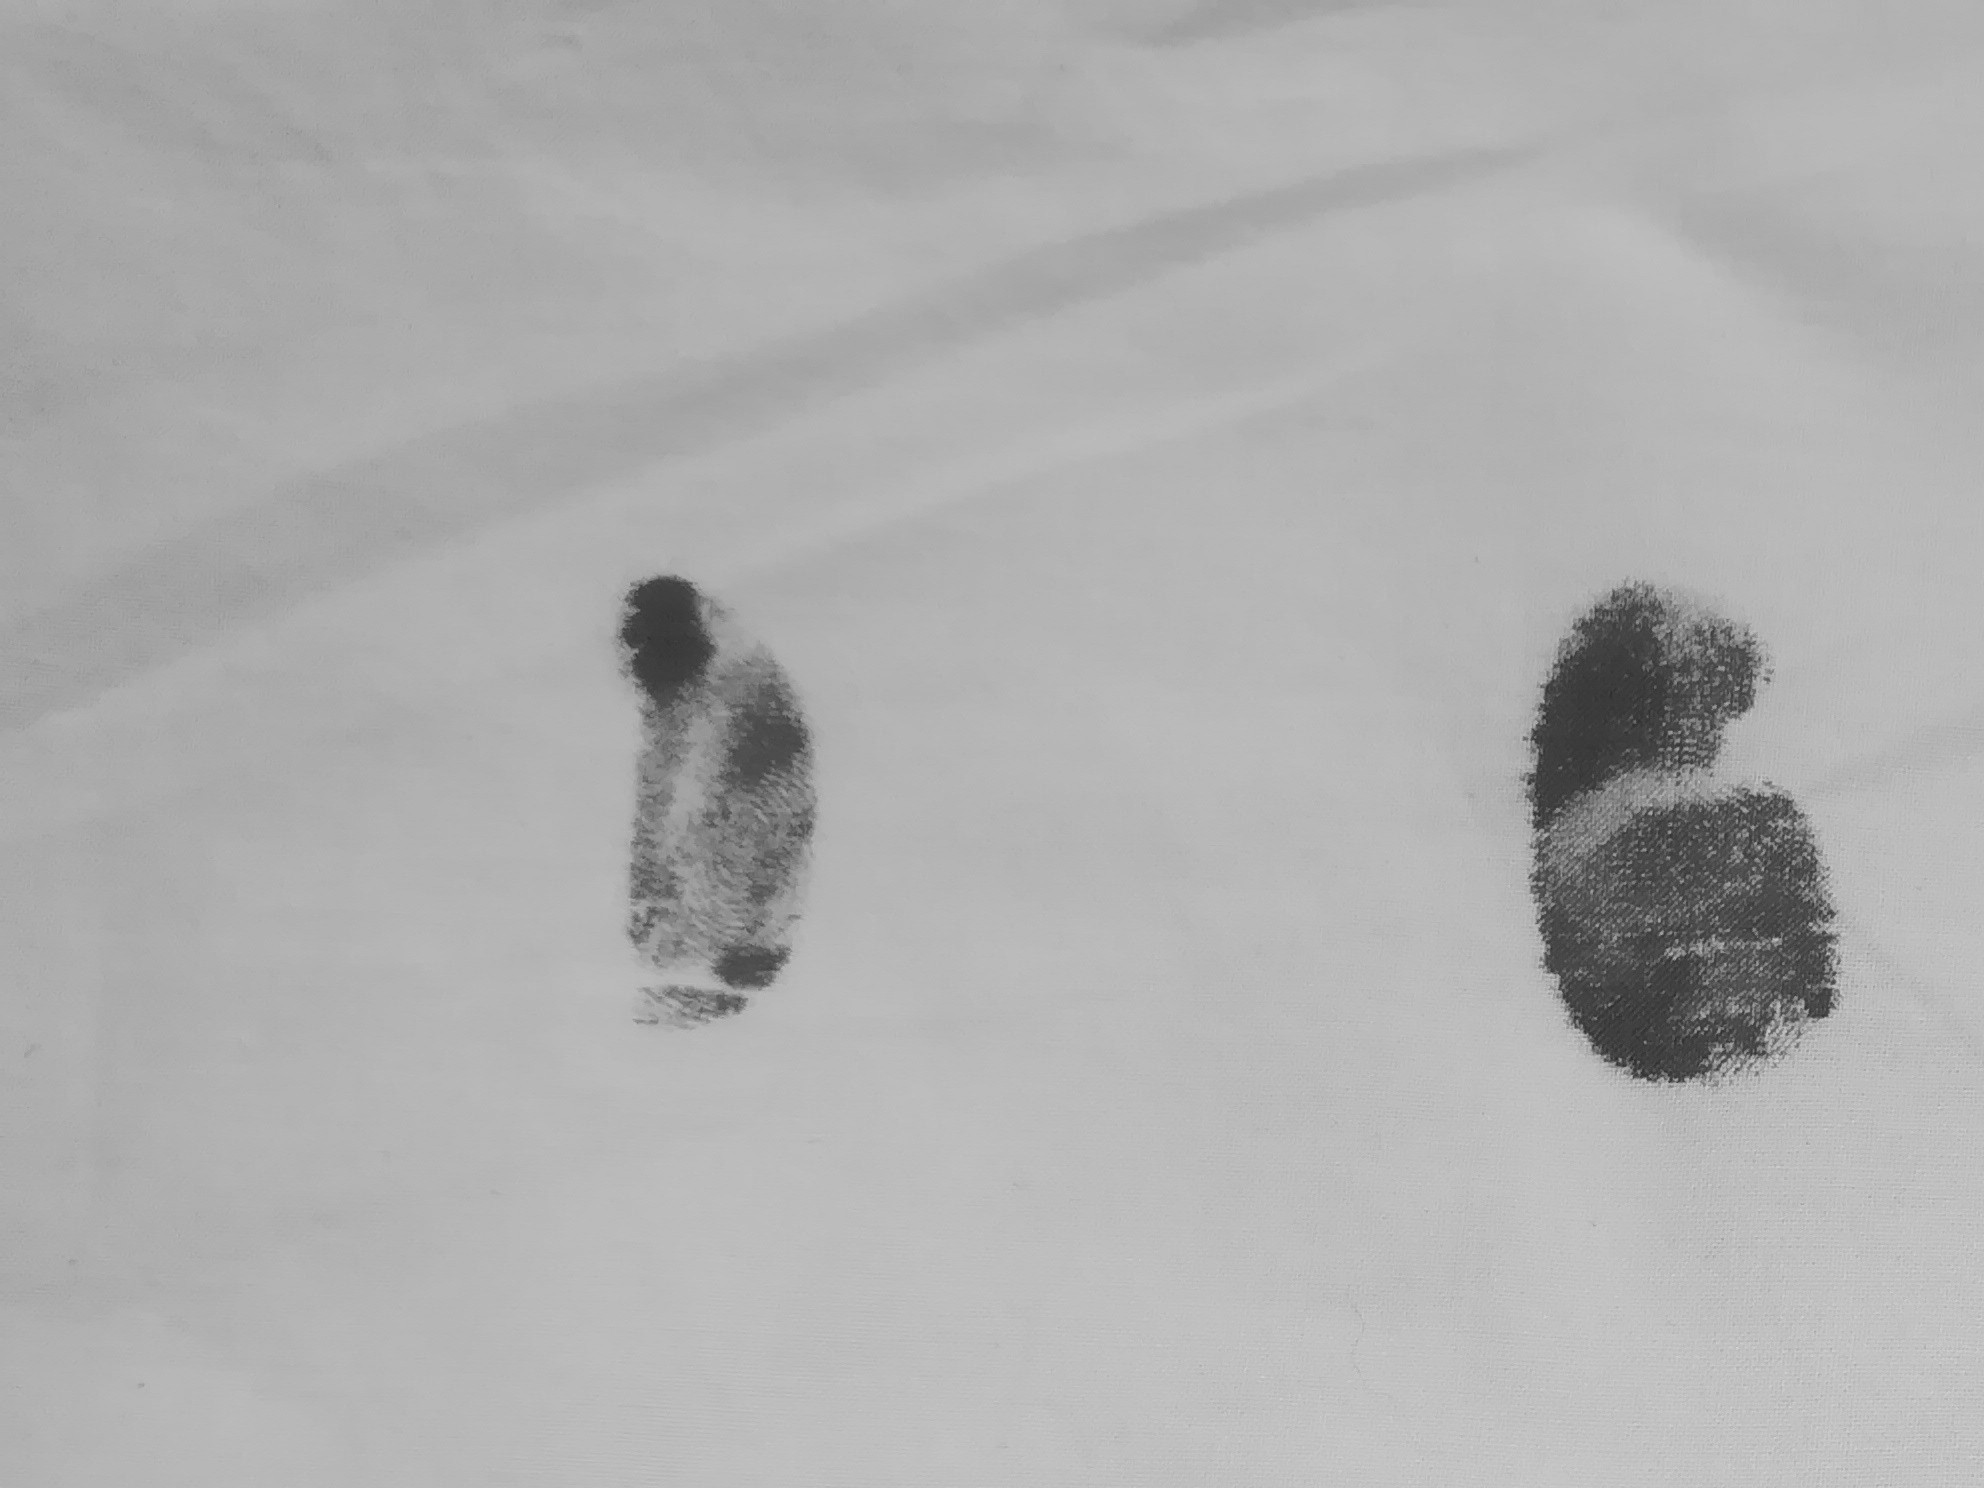Stain: (1426, 517, 1947, 1174), (494, 517, 997, 1085)
